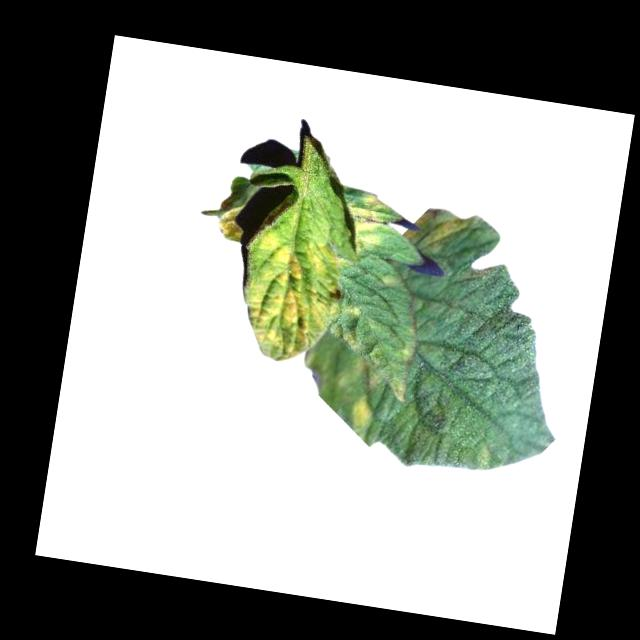Leaf_Mold: (228, 226, 350, 370), (340, 188, 397, 259), (403, 202, 475, 258), (348, 397, 378, 437), (389, 376, 411, 404), (339, 329, 362, 353), (381, 270, 403, 292)
